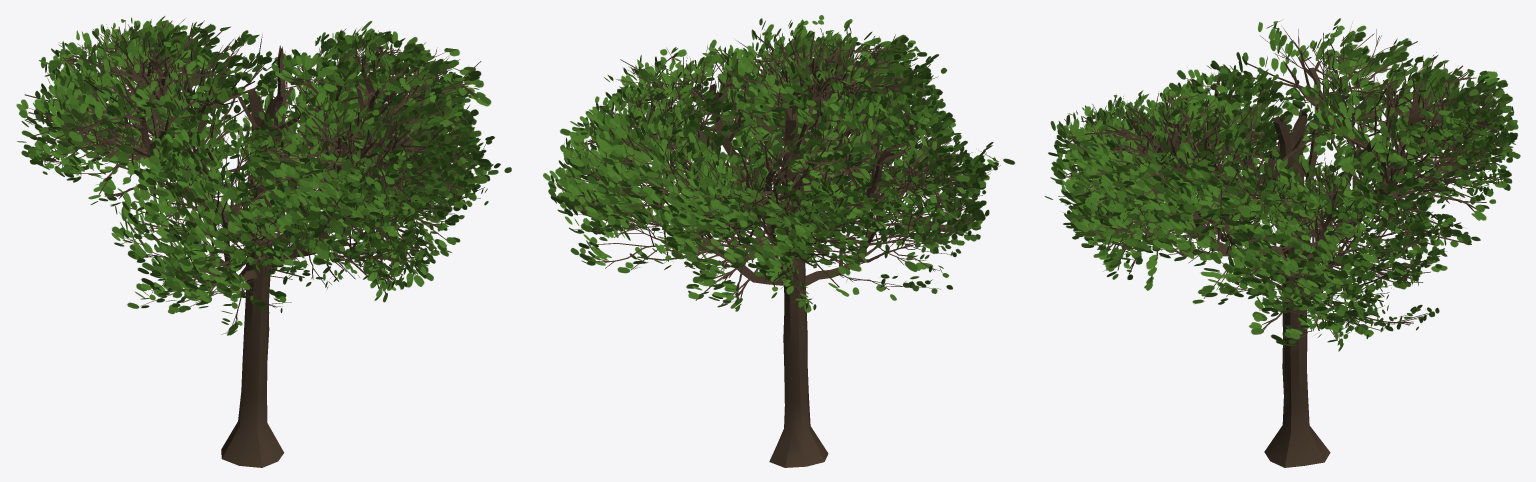
3 views of the same model, side by side, from view 1: azimuth 30°, elevation 25°; view 2: azimuth 150°, elevation 25°; view 3: azimuth 270°, elevation 25° (orthographic). The views are drawn at different scales.
Visible parts, largest first — view 1: oak 01.001_trunk_Mat.001_0.144; view 2: oak 01.001_trunk_Mat.001_0.144; view 3: oak 01.001_trunk_Mat.001_0.144.
Boxes of the visible parts, <box> form: oak 01.001_trunk_Mat.001_0.144: <box>16,16,511,467</box>; oak 01.001_trunk_Mat.001_0.144: <box>543,15,1014,467</box>; oak 01.001_trunk_Mat.001_0.144: <box>1044,18,1520,467</box>.
Size of the model in its own units: 5.11 by 4.19 by 4.95.
Materials: 2 (1 with a texture image).
